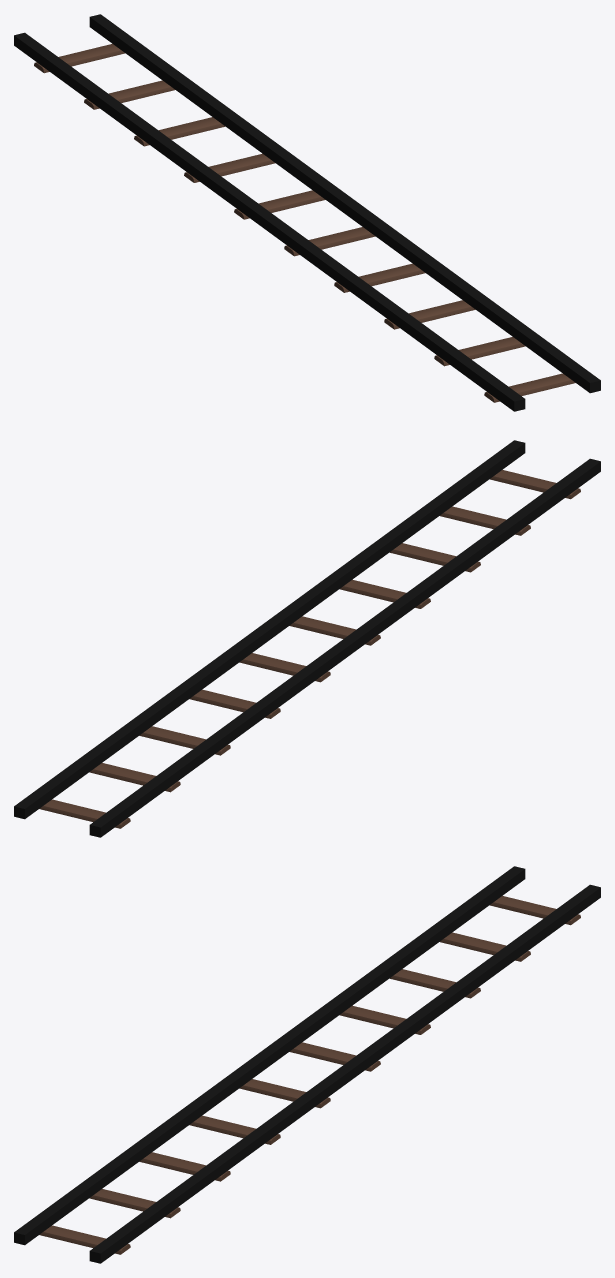
Rendered from SM_Rail.fbx.
3 views of the same model, one above another, from view 1: azimuth 30°, elevation 25°; view 2: azimuth 150°, elevation 25°; view 3: azimuth 330°, elevation 25° (orthographic).
Parts seen in each view (by area): view 1: Cube.002; view 2: Cube.002; view 3: Cube.002.
Boxes of the visible parts, x1=… form: Cube.002: x1=14, y1=14, x2=600, y2=411; Cube.002: x1=14, y1=440, x2=600, y2=837; Cube.002: x1=14, y1=866, x2=600, y2=1263.
Size of the model in its own units: 200 by 35.3 by 2000.
